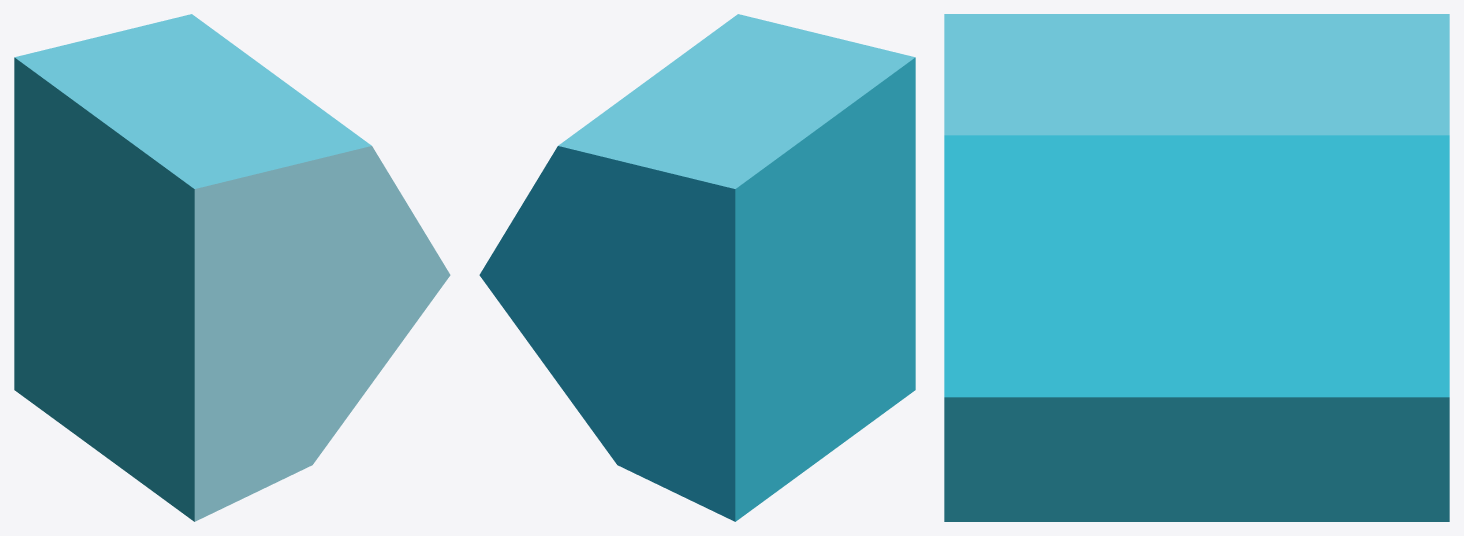
File: D_FBX_07_DesT_Wall_00.fbx
3 renders of one model, left to right at view 1: azimuth 30°, elevation 25°; view 2: azimuth 150°, elevation 25°; view 3: azimuth 270°, elevation 25°, orthographic. The views are drawn at different scales.
Visible parts, largest first — view 1: D_FBX_07_DesT_Wall_00; view 2: D_FBX_07_DesT_Wall_00; view 3: D_FBX_07_DesT_Wall_00.
Boxes of the visible parts, <box> form: D_FBX_07_DesT_Wall_00: <box>14,14,450,521</box>; D_FBX_07_DesT_Wall_00: <box>479,14,915,521</box>; D_FBX_07_DesT_Wall_00: <box>944,14,1449,521</box>.
Bounding box in the file's own units: 92.29 × 115 × 112.
